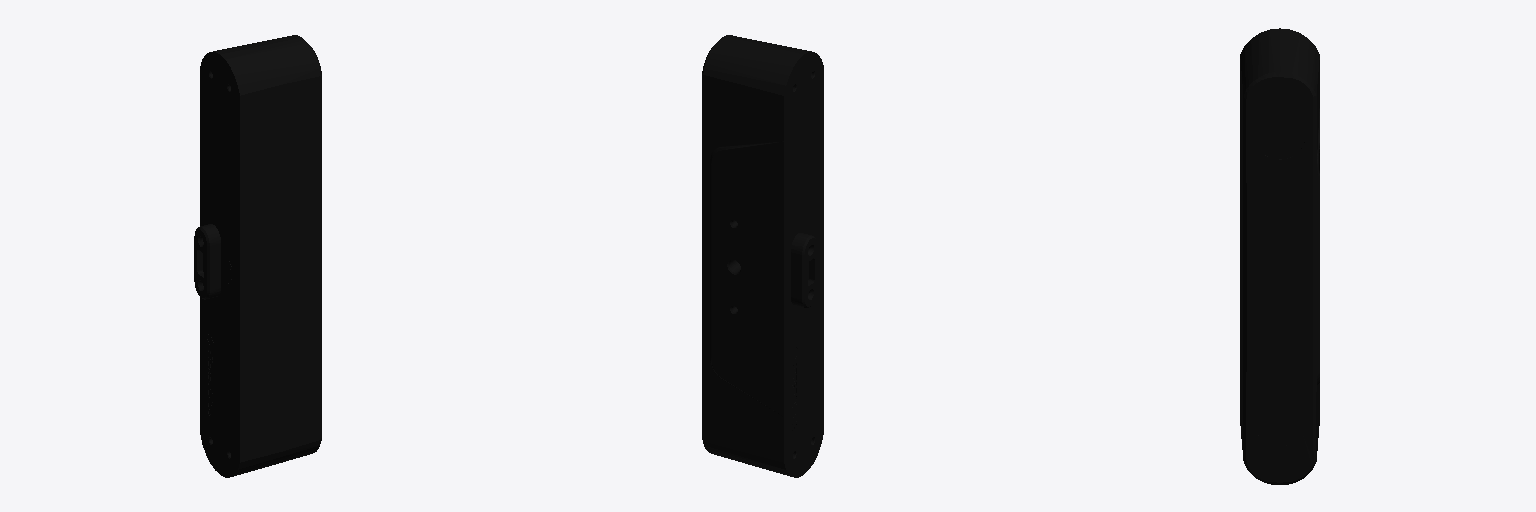
The model's file is ZED.obj.
3 renders of one model, left to right at view 1: azimuth 30°, elevation 25°; view 2: azimuth 150°, elevation 25°; view 3: azimuth 270°, elevation 25°, orthographic.
Parts seen in each view (by area): view 1: Body18; view 2: Body18; view 3: Body18.
Part boxes in pixels (x1,y1,x2,y2): Body18: (194, 35, 321, 477); Body18: (702, 35, 823, 477); Body18: (1240, 28, 1319, 484).
Size of the model in its own units: 4.31 by 17.59 by 3.03.